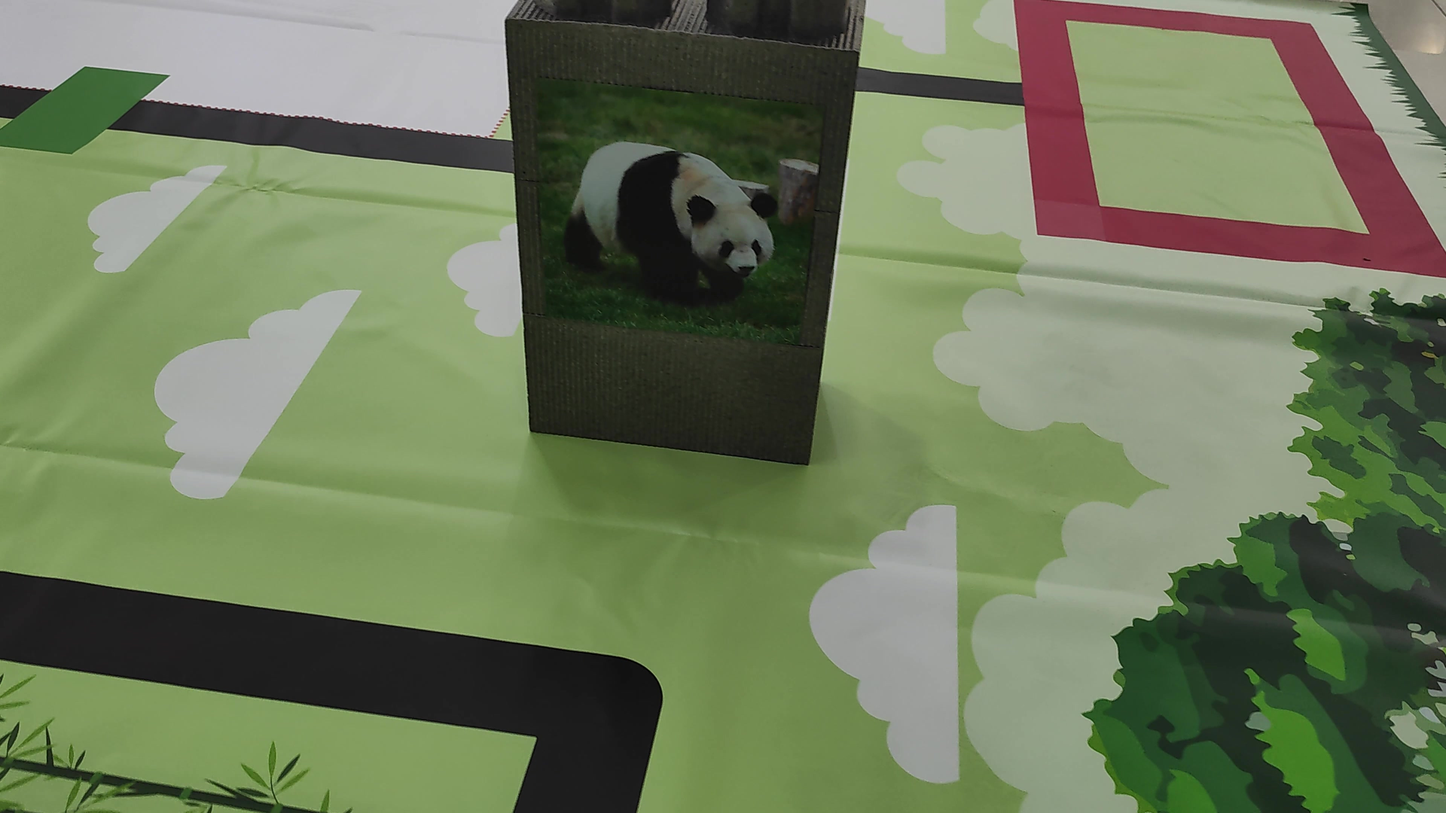panda: (535, 107, 785, 320)
